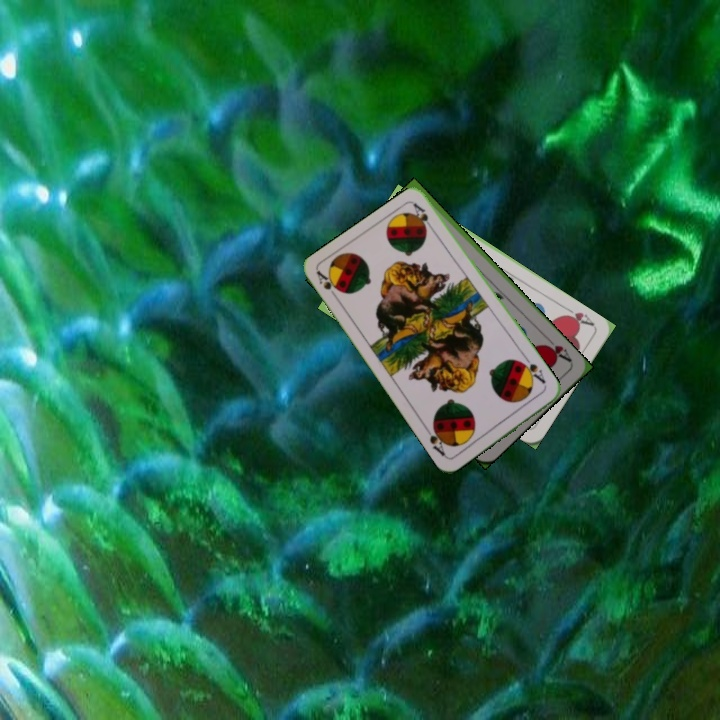HA: (540, 333, 575, 365), (560, 302, 597, 329)
SA: (313, 268, 345, 303), (516, 354, 548, 386)
